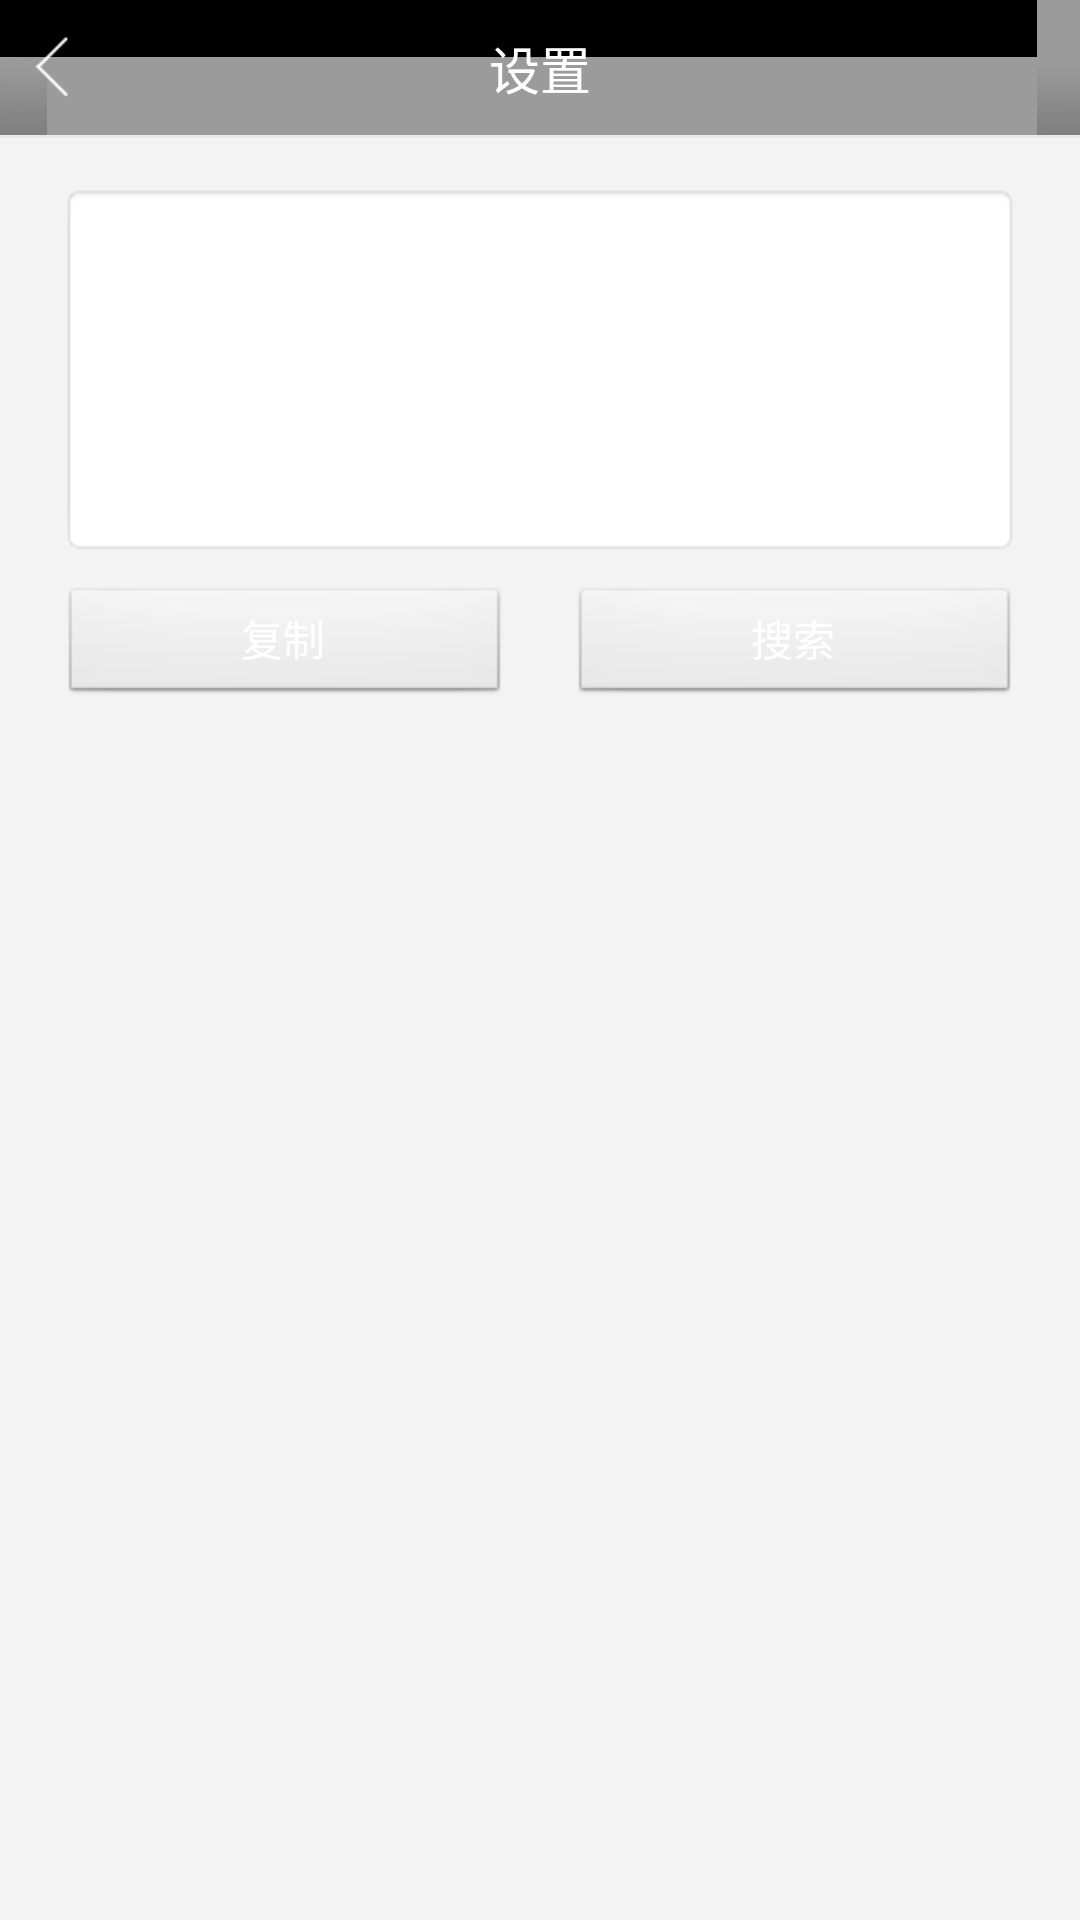

Point at icon controls on the screen. Image size 1080px x 1920px, points as point (x, y).
title back: point (67, 67)
